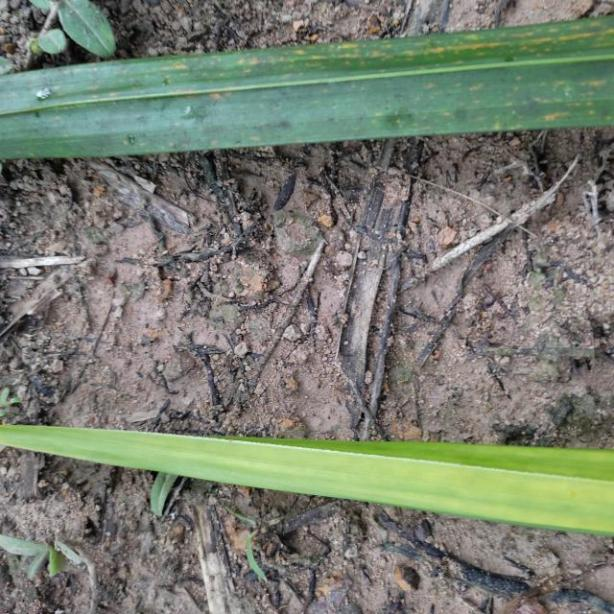nitrogen: (0, 21, 614, 161), (0, 416, 614, 537)
